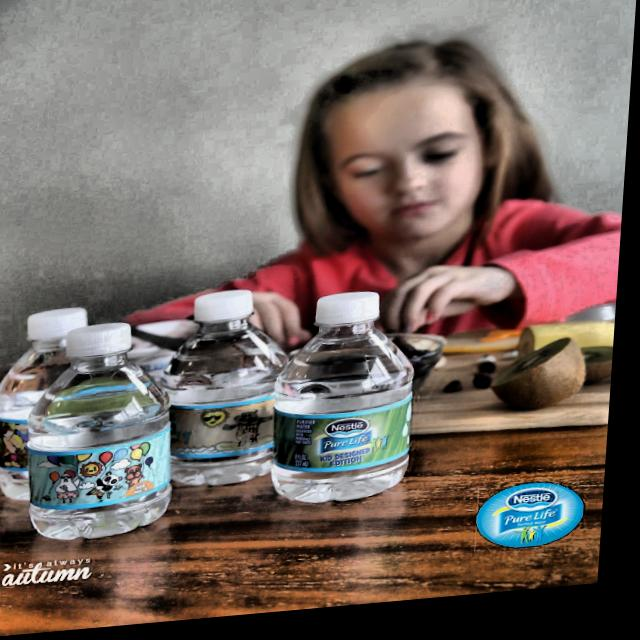Bottles: (125, 253, 317, 508), (16, 305, 199, 563), (267, 277, 454, 527)
